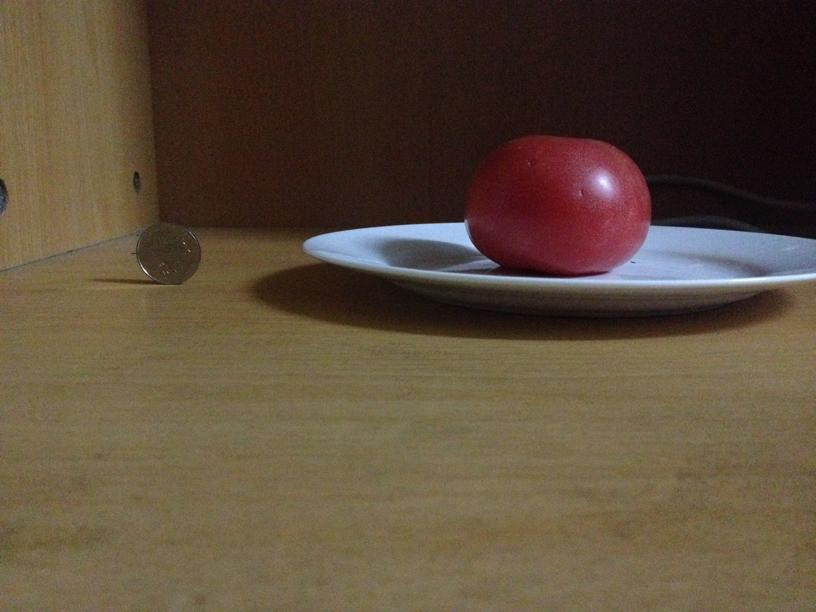coin: (136, 219, 203, 285)
tomato: (469, 133, 655, 274)
